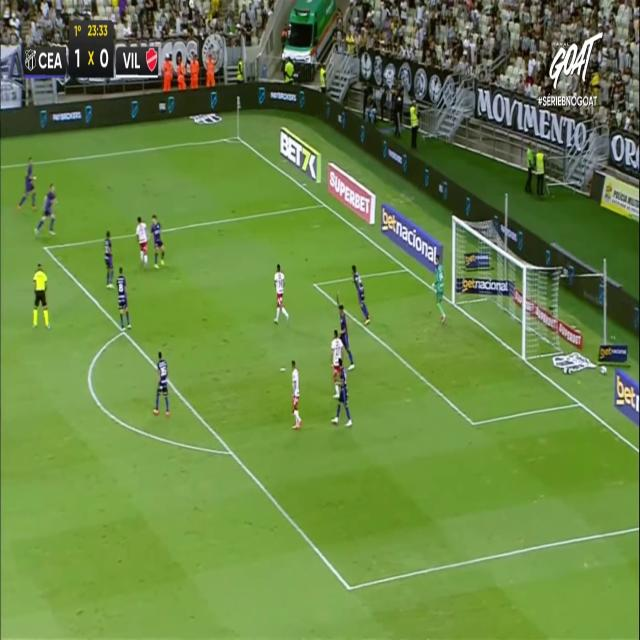ball: (189, 0, 194, 11)
goalkeeper: (436, 281, 447, 323)
player: (337, 286, 356, 372), (330, 359, 352, 426), (34, 182, 57, 236), (152, 351, 170, 416), (351, 264, 370, 325), (115, 266, 132, 330), (20, 157, 38, 214), (331, 324, 344, 401), (273, 262, 289, 323), (151, 214, 165, 267), (136, 215, 149, 269), (291, 360, 301, 428), (103, 230, 114, 287)
referee: (32, 262, 50, 329)
